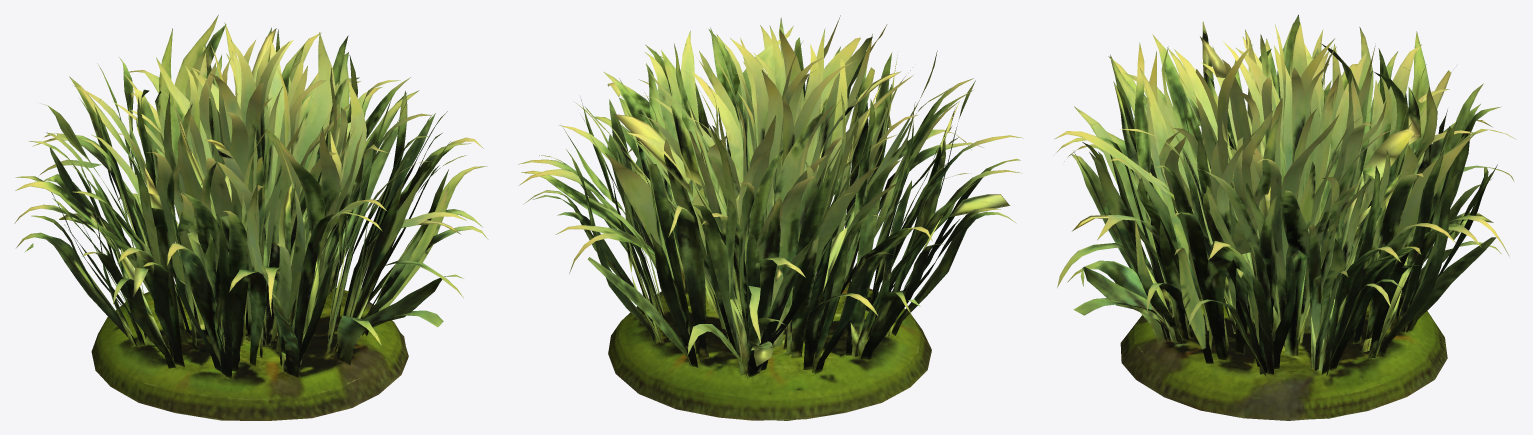
Rendered from veg-grass.glb.
The picture shows the model from 3 angles, left to right: view 1: azimuth 30°, elevation 25°; view 2: azimuth 150°, elevation 25°; view 3: azimuth 270°, elevation 25°; orthographic projection. The views are drawn at different scales.
Visible parts, largest first — view 1: Mesh_0; view 2: Mesh_0; view 3: Mesh_0.
Part boxes in pixels (x1,y1,x2,y2): Mesh_0: (14,15,488,420); Mesh_0: (519,15,1023,420); Mesh_0: (1054,14,1516,420).
Size of the model in its own units: 1 by 0.7402 by 1.
1 material, 1 textured.
